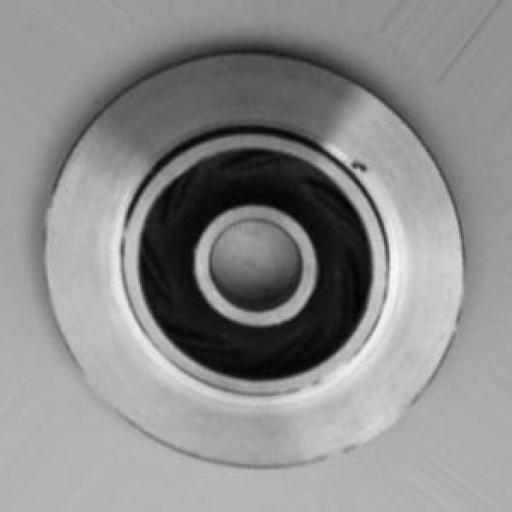defect: (344, 142, 378, 194)
